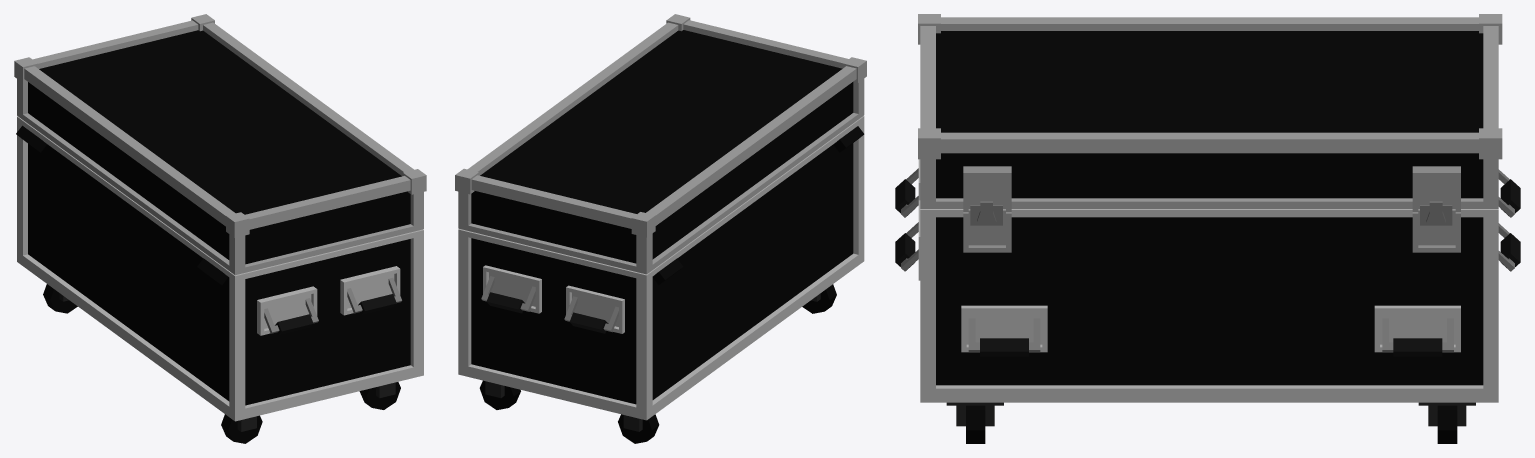
File: StorageCrate_016.glb
The picture shows the model from 3 angles, left to right: view 1: azimuth 30°, elevation 25°; view 2: azimuth 150°, elevation 25°; view 3: azimuth 270°, elevation 25°; orthographic projection. The views are drawn at different scales.
Parts seen in each view (by area): view 1: Mesh_StorageCrate_016; view 2: Mesh_StorageCrate_016; view 3: Mesh_StorageCrate_016.
Part boxes in pixels (x1,y1,x2,y2): Mesh_StorageCrate_016: (14, 14, 426, 443); Mesh_StorageCrate_016: (455, 14, 866, 443); Mesh_StorageCrate_016: (895, 14, 1520, 443).
Bounding box in the file's own units: 0.8859 × 0.9623 × 1.7.
Materials: 1 (1 with a texture image).
